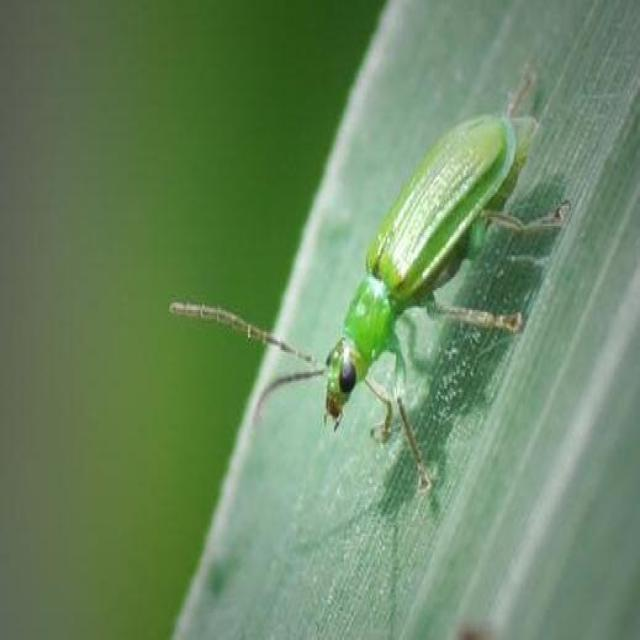gusano_gris: (168, 64, 573, 493)
